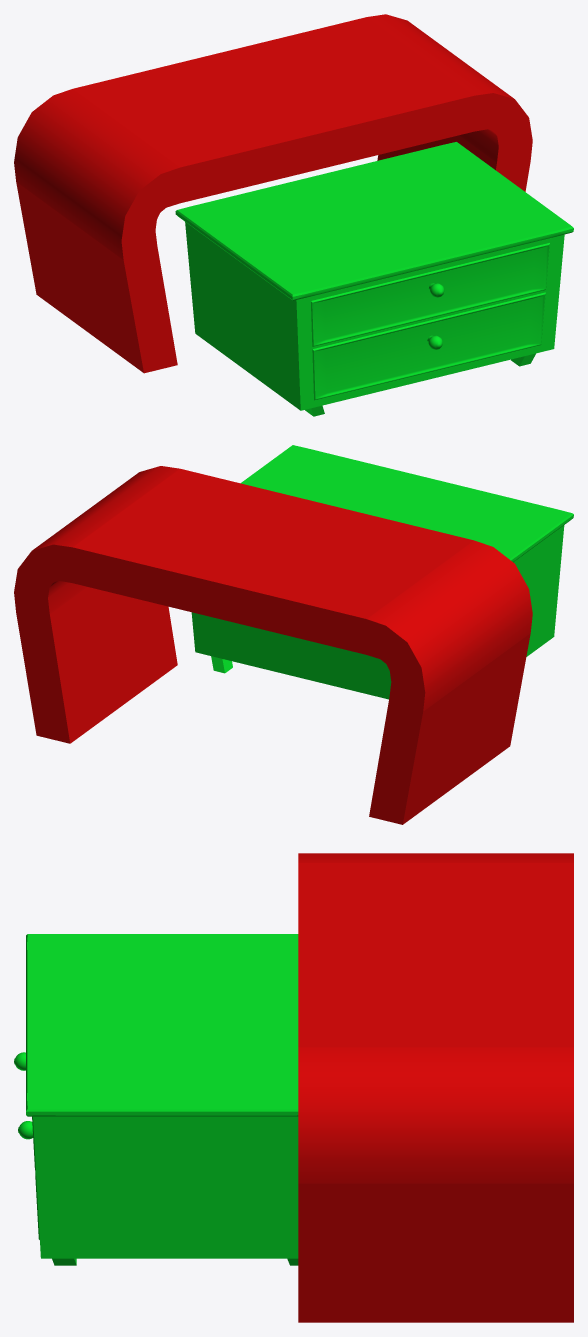
The model's file is Closet 2.fbx.
3 renders of one model, top to bottom at view 1: azimuth 30°, elevation 25°; view 2: azimuth 150°, elevation 25°; view 3: azimuth 270°, elevation 25°, orthographic. The views are drawn at different scales.
Visible parts, largest first — view 1: Closet_2; view 2: Closet_2; view 3: Closet_2.
Part boxes in pixels (x1=…): Closet_2: x1=14, y1=14, x2=573, y2=416; Closet_2: x1=14, y1=445, x2=573, y2=824; Closet_2: x1=14, y1=853, x2=573, y2=1322.
Bounding box in the file's own units: 4.78 × 2.19 × 4.39.
